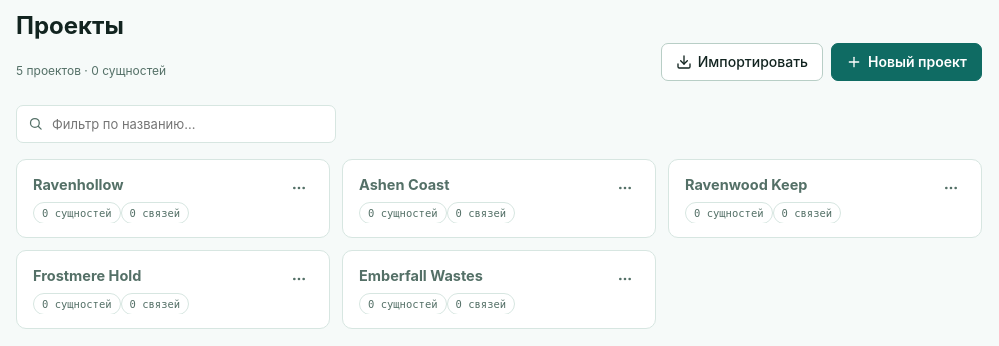
Scenario: ProjectListPage › shows a no-matches hint when the filter query matches nothing
This screenshot has width=999, height=346.
Type "nowhere" into the field with placeholder "Фильтр по названию…" at [188, 124], box [52,114,324,134]
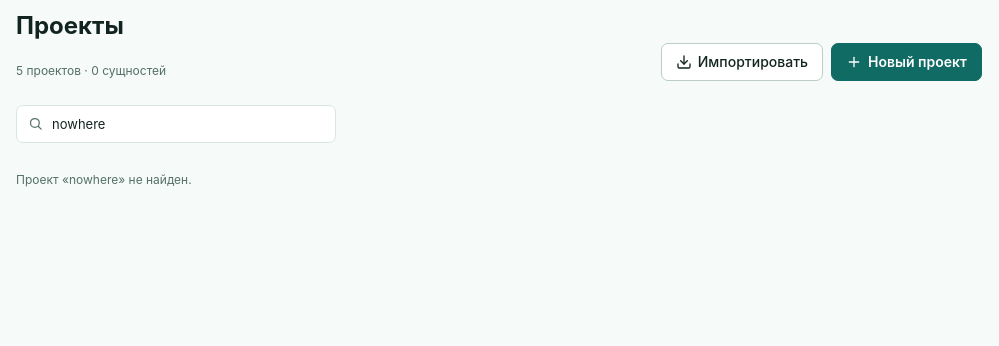
Check: the text "Проект «nowhere» не найден." is shown, box [16,172,192,187]
